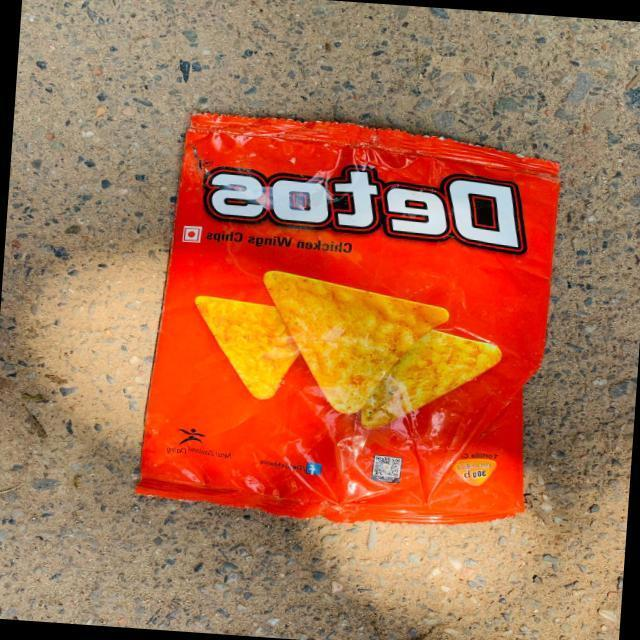packet: (131, 109, 583, 556)
